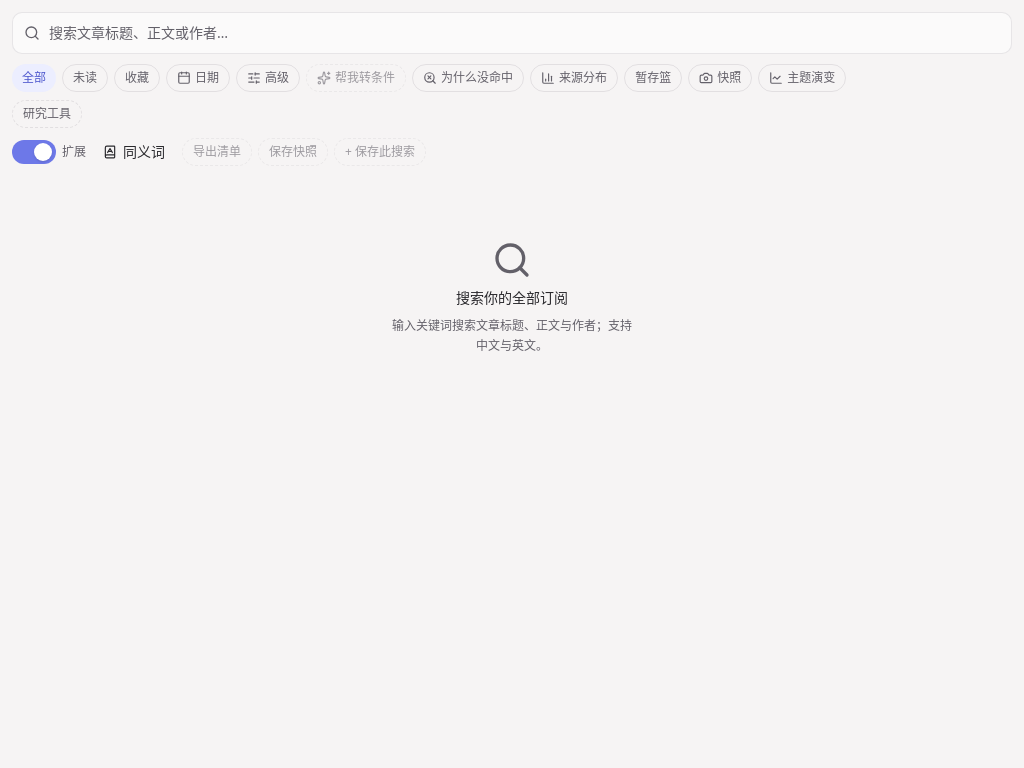
Scenario: N145 来源分布（SearchPage） › 同参拉取聚合；来源 chip 点击 → 后续搜索带 feedUrl（同一结果集口径）
This screenshot has width=1024, height=768.
Type "rust" into the search field labelled "搜索" at x=512, y=33, box [12,12,1012,54]
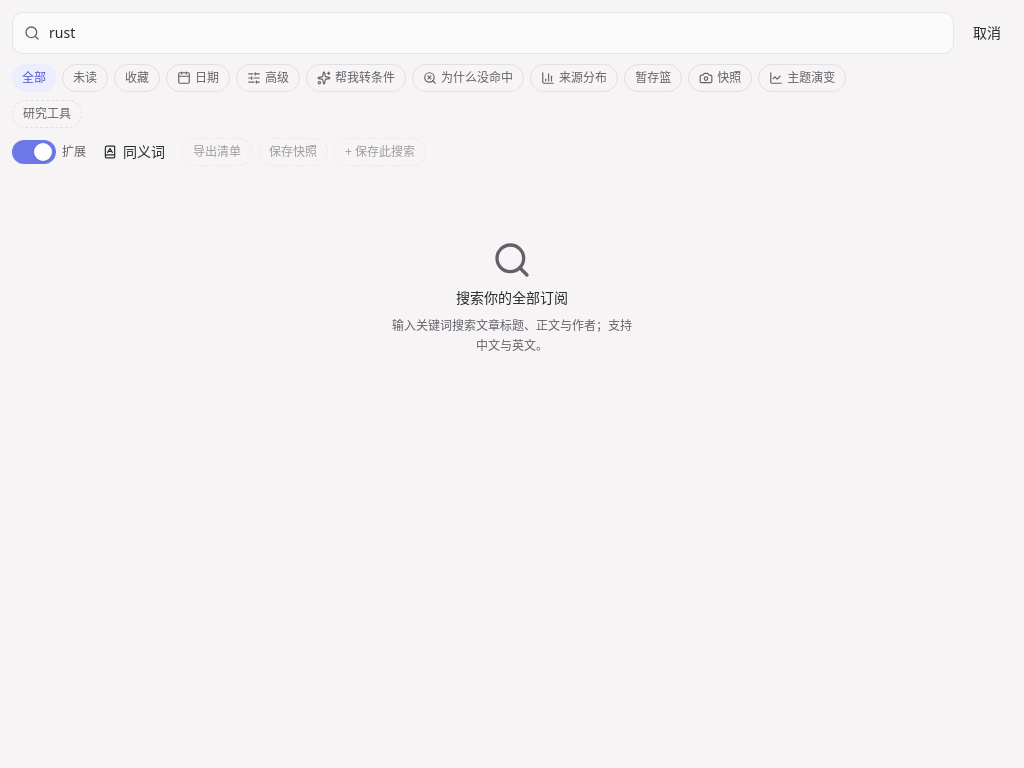
Press Enter in the search field named "搜索", box [12,12,954,54]
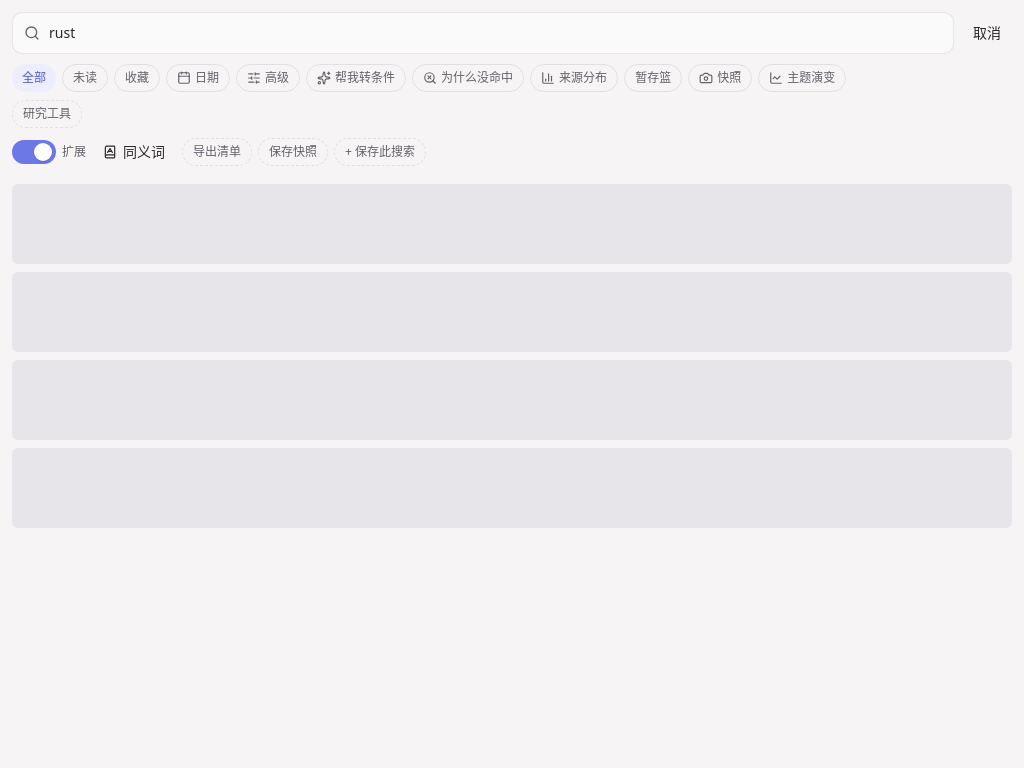
Click the button with test id "distribution-toggle" at x=574, y=78, box [530,64,618,92]
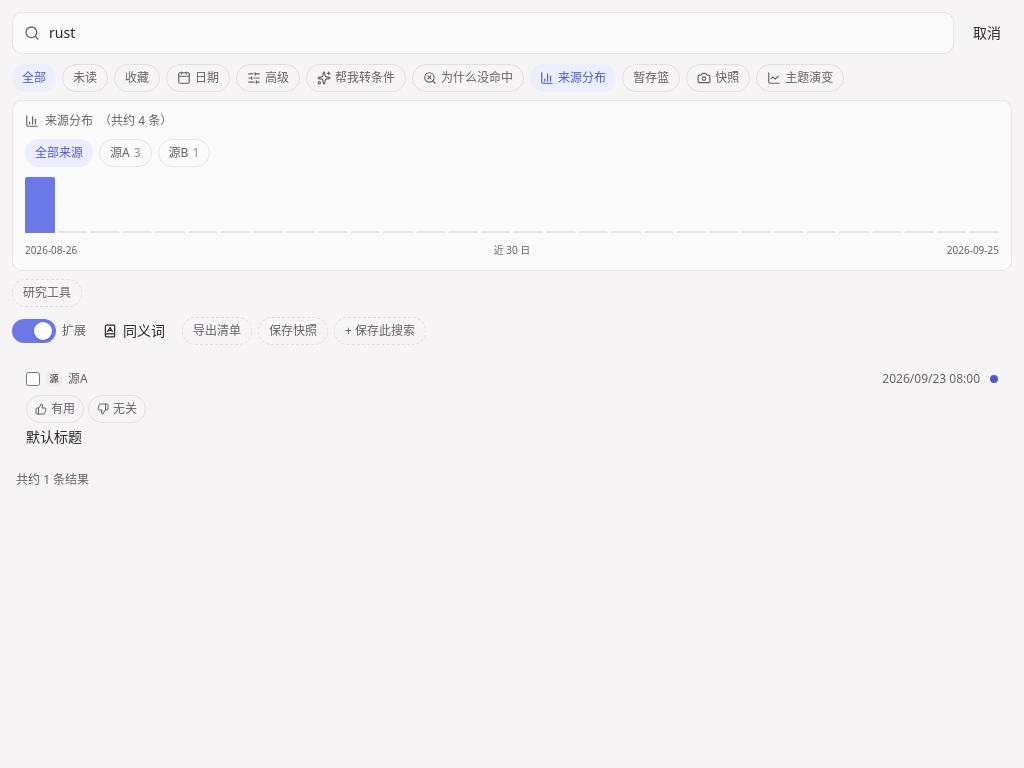
Expected: the number of buttons with test id "distribution-source" is 2
Click the button with test id "distribution-source" at x=125, y=153, box [99,139,152,167]
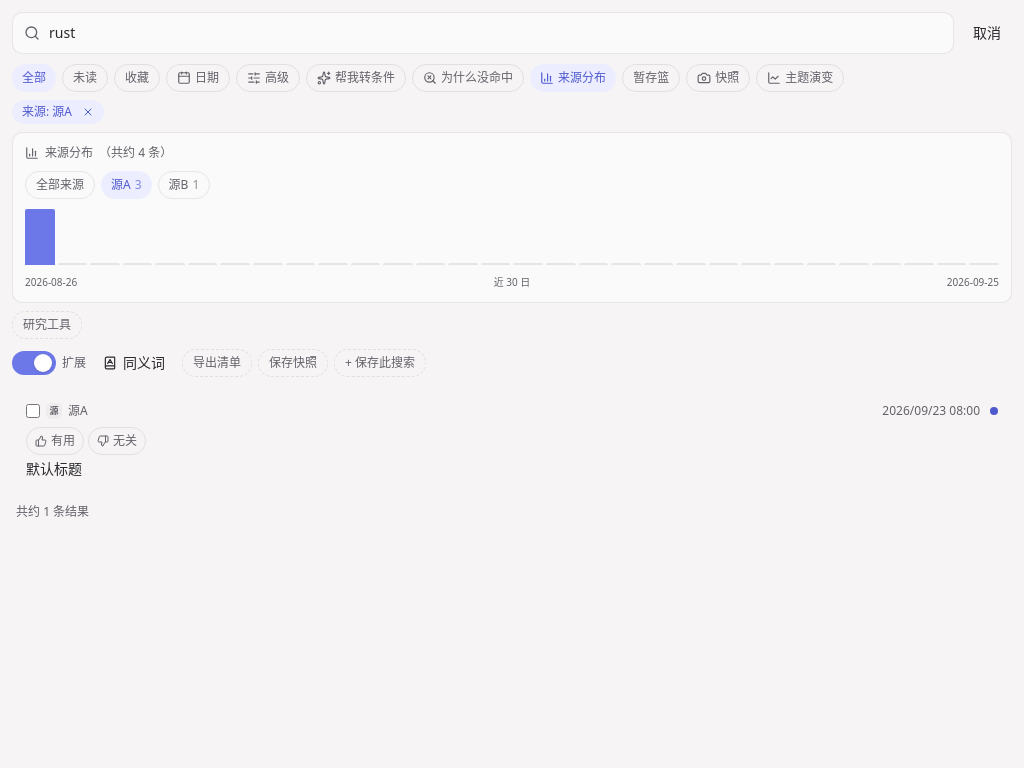
Expected: the text "来源: 源A" is shown, [22,104,72,120]
Expected: the text with test id "applied-source-label" shows "源A", [52,103,72,120]
